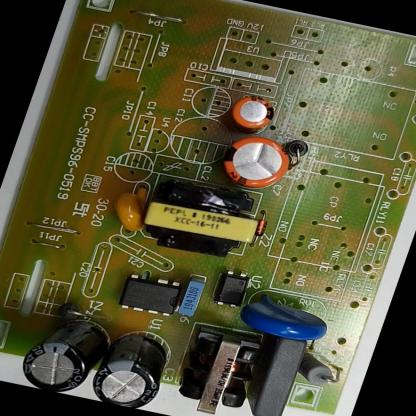Cap1: (208, 124, 302, 200)
Cap2: (215, 86, 291, 140)
Cap3: (78, 318, 186, 413)
Cap4: (8, 300, 126, 400)
MOSFET: (106, 262, 197, 325)
Mov: (228, 283, 342, 351)
Resistor: (289, 342, 350, 393)
Transformer: (128, 166, 273, 266), (163, 316, 277, 416)
